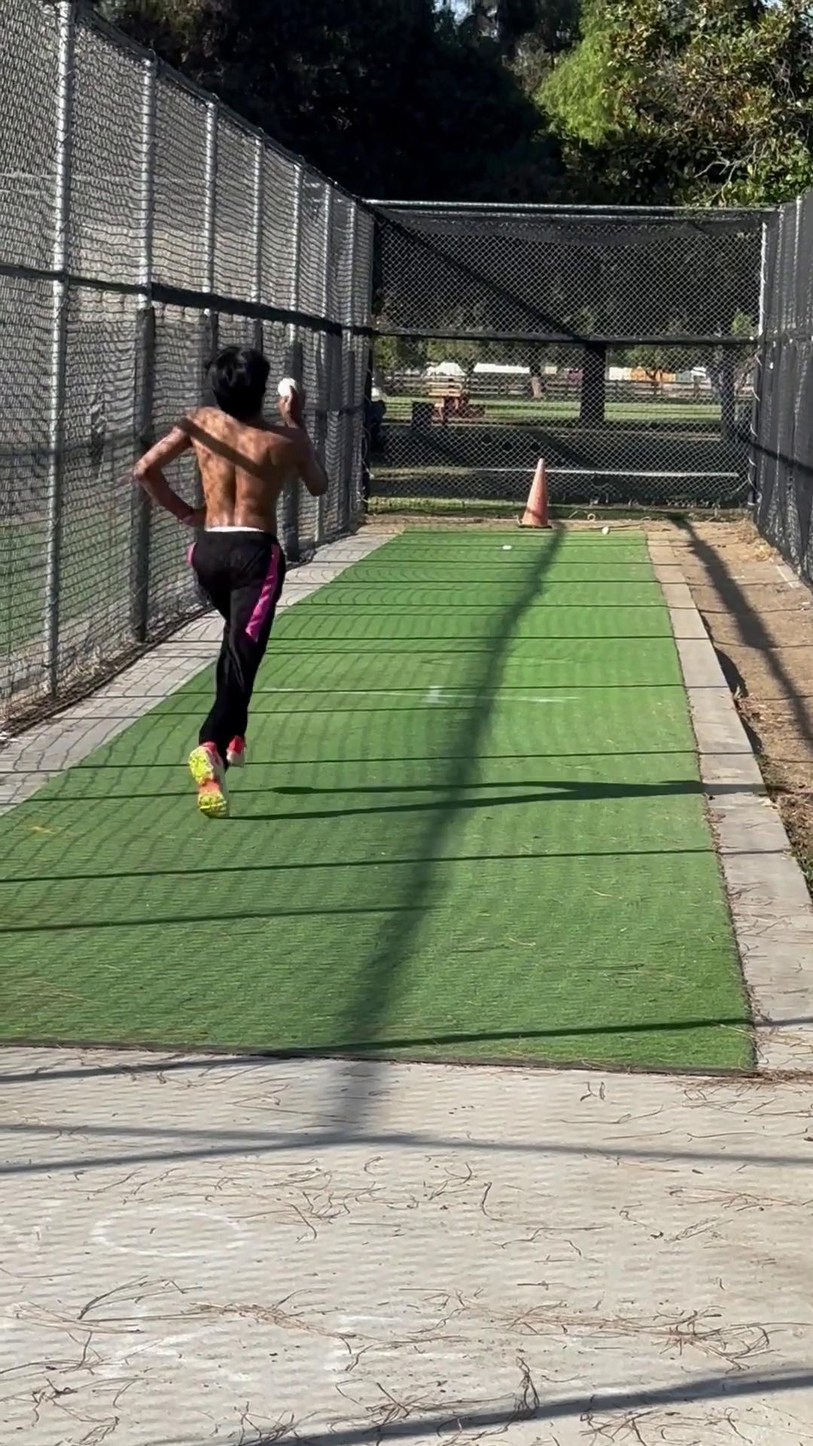ball: (271, 369, 309, 406)
